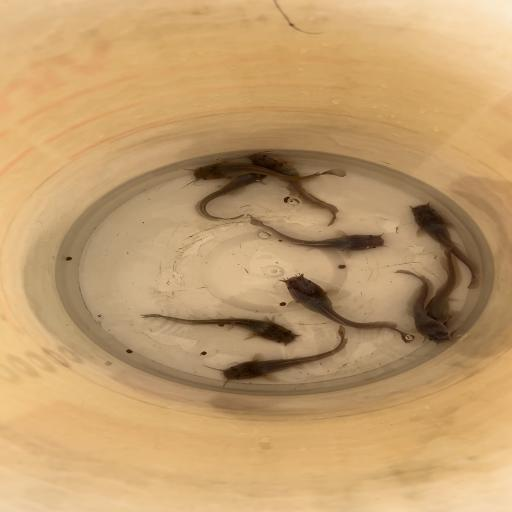lele: (278, 272, 417, 344), (206, 324, 349, 386), (404, 200, 484, 290), (249, 152, 342, 227), (244, 214, 389, 252), (137, 312, 303, 344), (394, 268, 453, 348), (194, 175, 267, 222), (186, 162, 348, 182), (424, 246, 461, 323)
